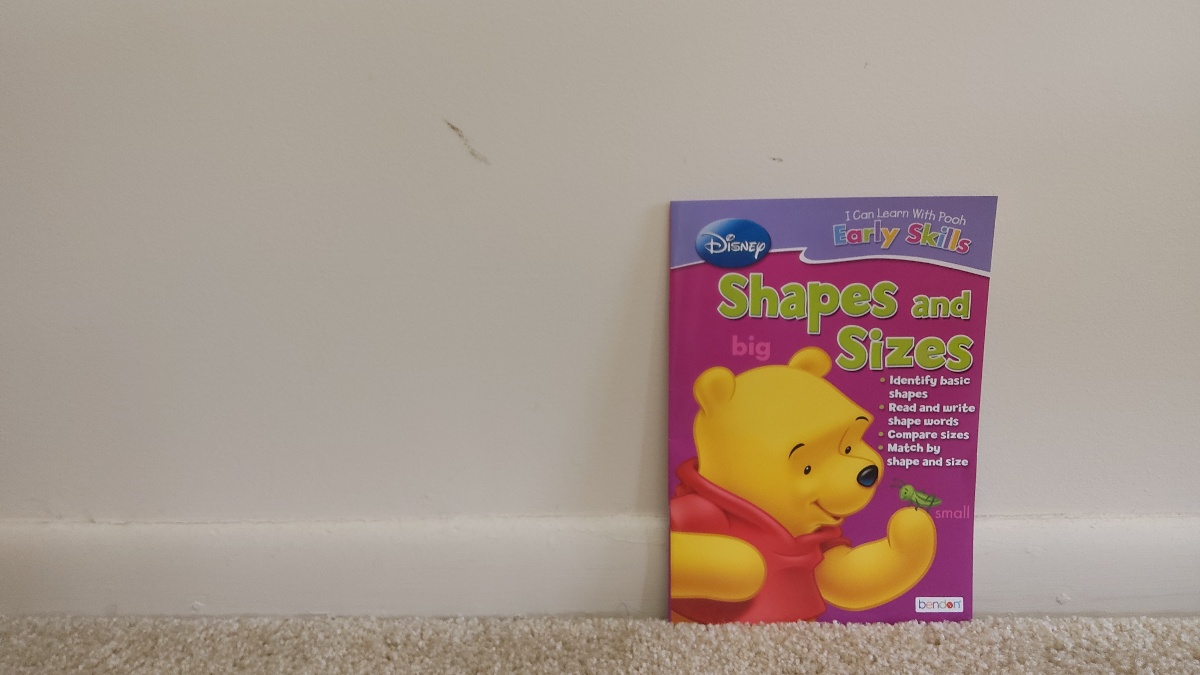book: (671, 200, 976, 625)
